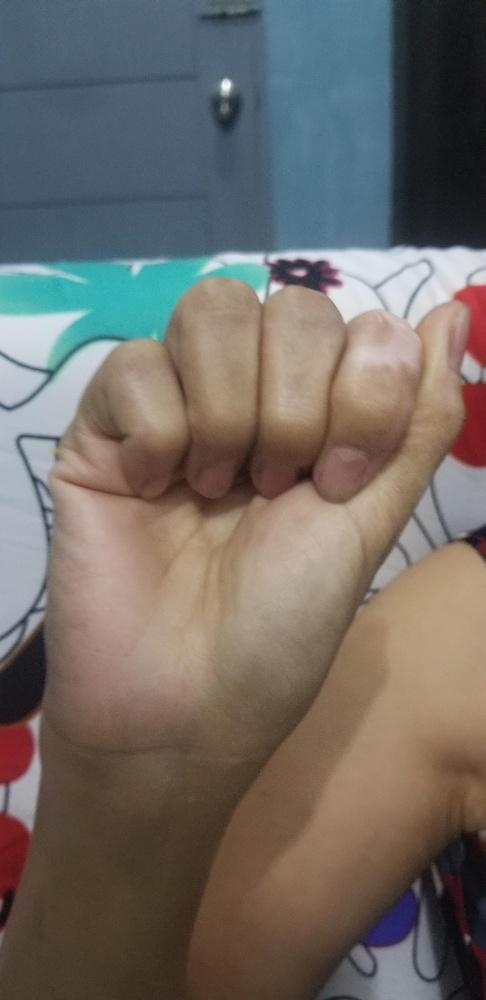a: (35, 269, 476, 751)
